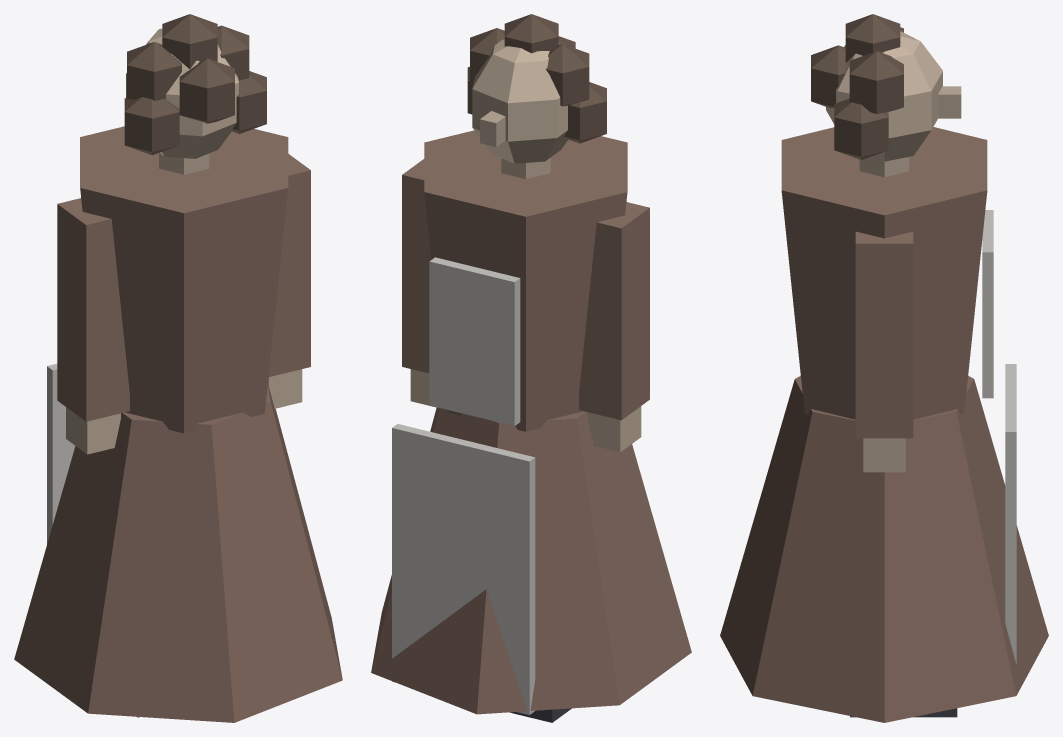
The model's file is personaje_rosa.glb.
3 views of the same model, side by side, from view 1: azimuth 30°, elevation 25°; view 2: azimuth 150°, elevation 25°; view 3: azimuth 270°, elevation 25° (orthographic). The views are drawn at different scales.
Visible parts, largest first — view 1: Rosa_Torso, Rosa_Cabeza, Rosa_BrazoIzq, Rosa_BrazoDer; view 2: Rosa_Torso, Rosa_Cabeza, Rosa_BrazoIzq, Rosa_BrazoDer; view 3: Rosa_Torso, Rosa_Cabeza, Rosa_BrazoDer.
Part boxes in pixels (x1,y1,x2,y2): Rosa_Torso: (14, 126, 342, 722); Rosa_Cabeza: (124, 14, 266, 174); Rosa_BrazoIzq: (57, 198, 129, 454); Rosa_BrazoDer: (268, 154, 310, 408); Rosa_Torso: (371, 130, 691, 714); Rosa_Cabeza: (467, 14, 606, 178); Rosa_BrazoIzq: (579, 202, 649, 452); Rosa_BrazoDer: (402, 159, 437, 407); Rosa_Torso: (720, 127, 1048, 722); Rosa_Cabeza: (811, 14, 961, 177); Rosa_BrazoDer: (855, 231, 913, 472).
Size of the model in its own units: 0.8364 by 1.94 by 0.8579.
